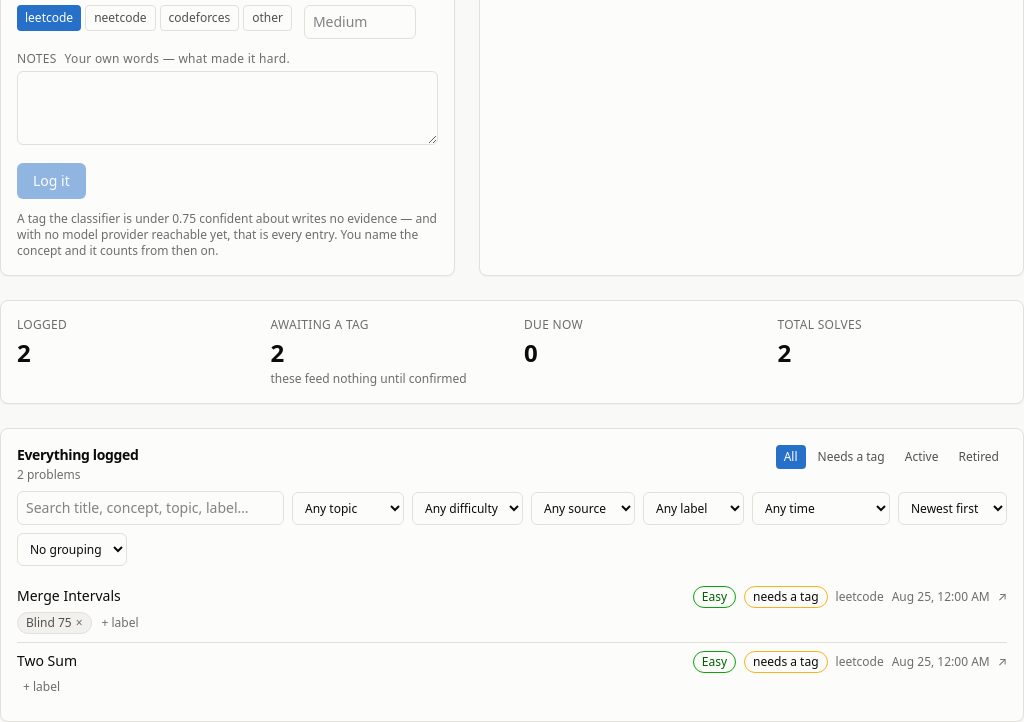
Test: practice log › searches across title, concept and label, and says when nothing matches
(page scrolled)
Type "blind" into the field named "Search problems" at (150, 508), box 17,491 -> 284,525
(page scrolled)
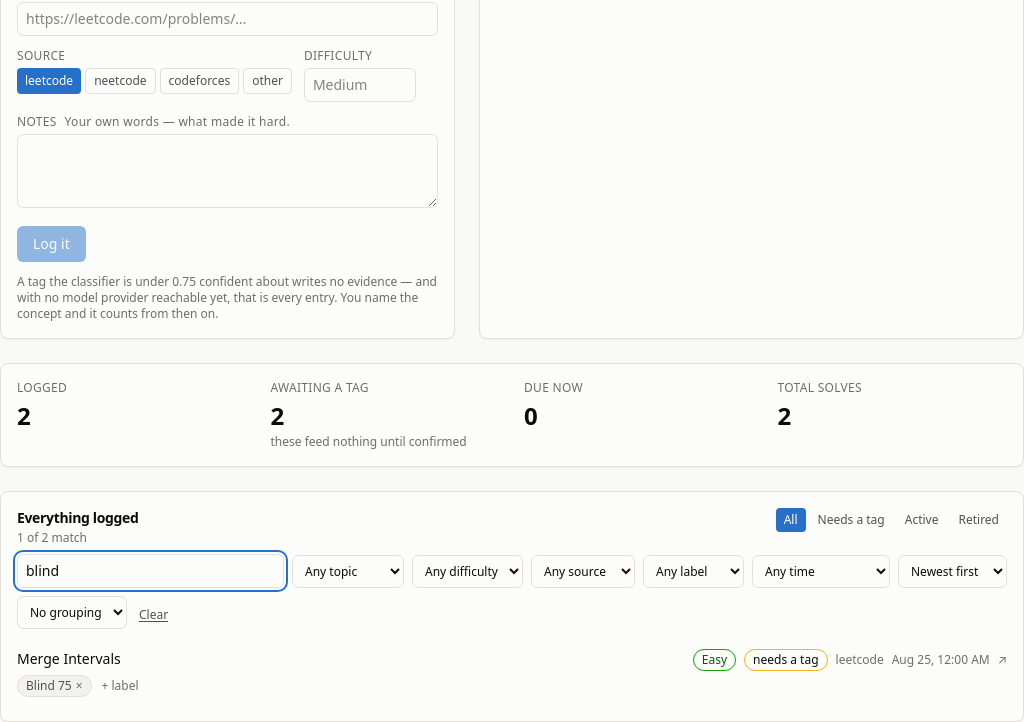
Expected: the link "Merge Intervals" is shown, 17,649 -> 121,668
Result: the link "Two Sum" is gone
Clear the field named "Search problems" at (150, 571), box 17,554 -> 284,588
(page scrolled)
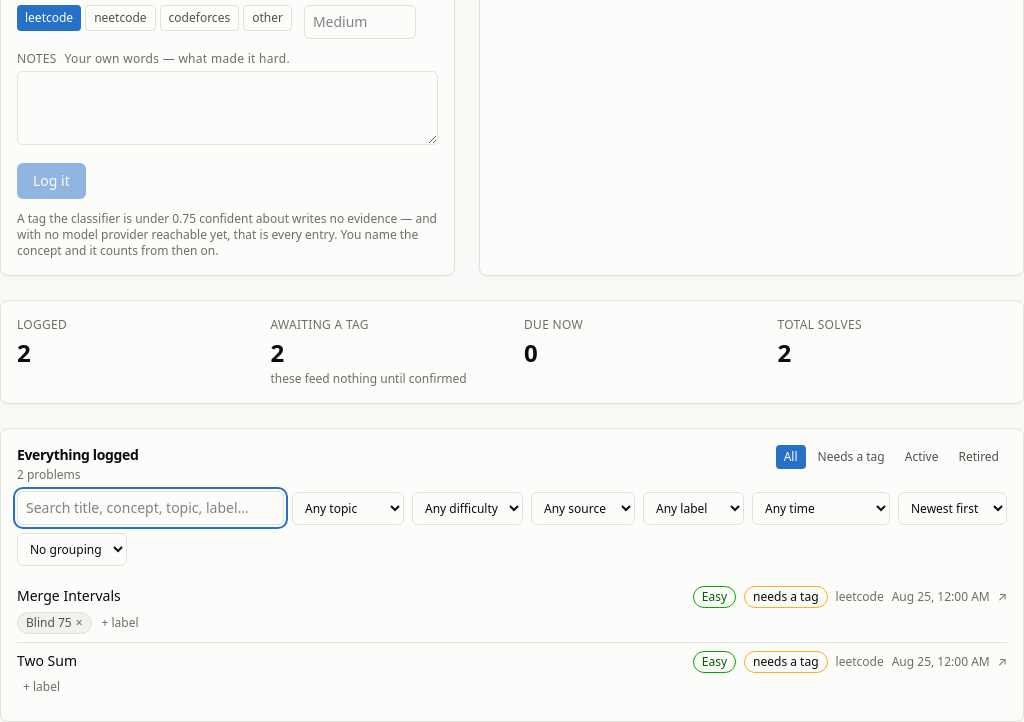
Type "hash map" into the field named "Search problems" at (150, 508), box 17,491 -> 284,525
(page scrolled)
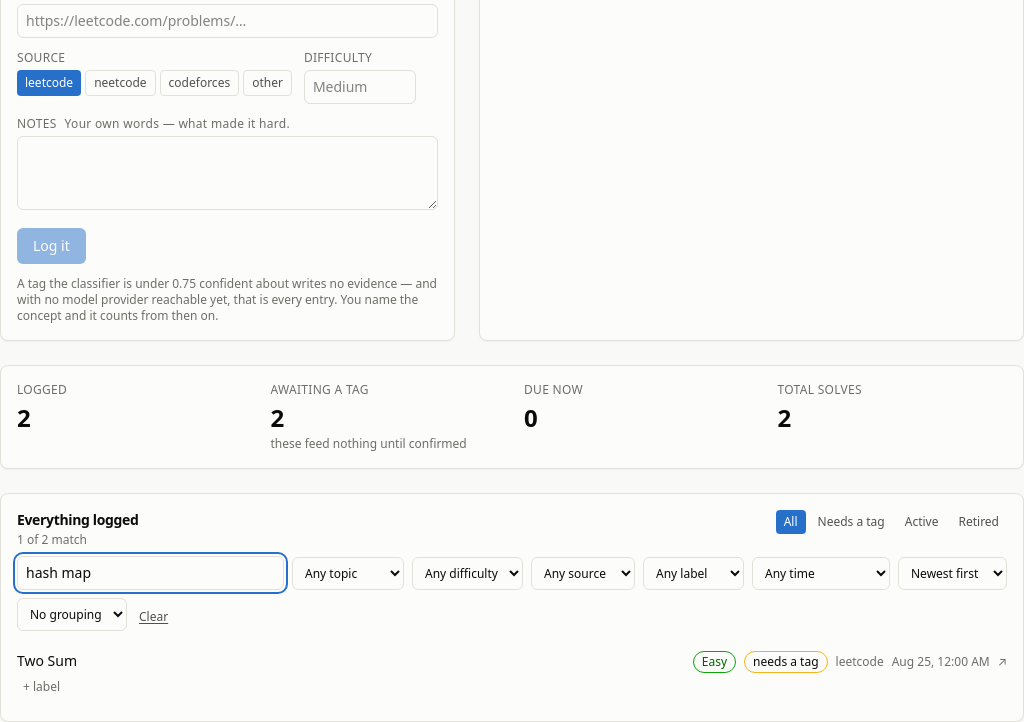
Result: the link "Two Sum" is shown at 17,651 -> 77,670
Clear the field named "Search problems" at (150, 573), box 17,556 -> 284,590
(page scrolled)
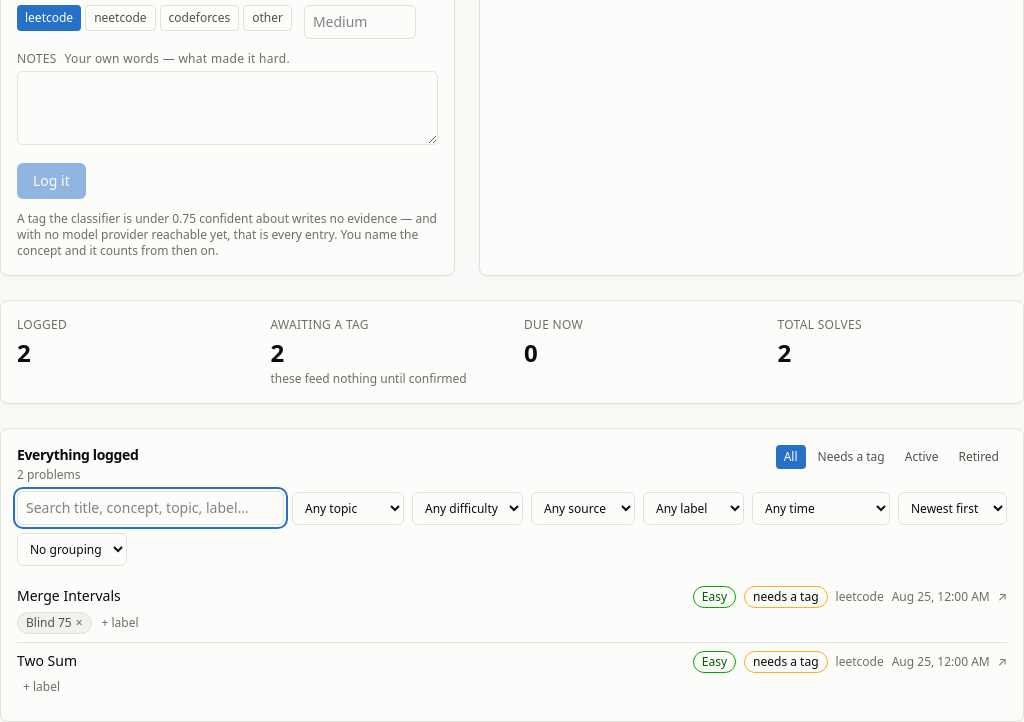
Type "nothing like this" into the field named "Search problems" at (150, 508), box 17,491 -> 284,525
(page scrolled)
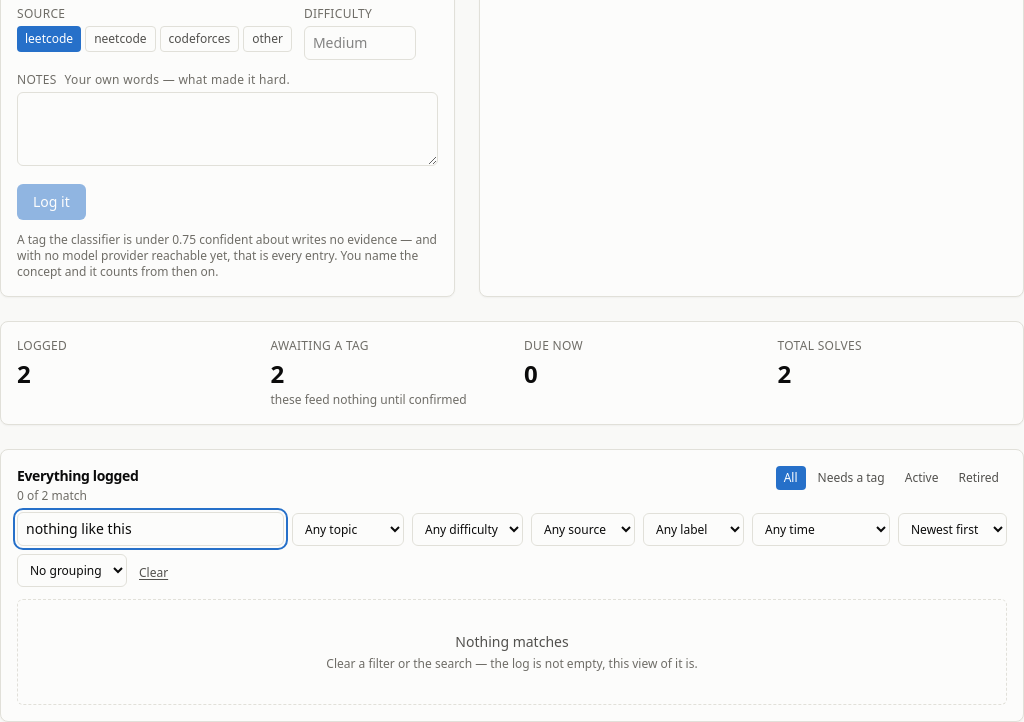
Result: the text "Nothing matches" is shown at 455,632 -> 569,651
